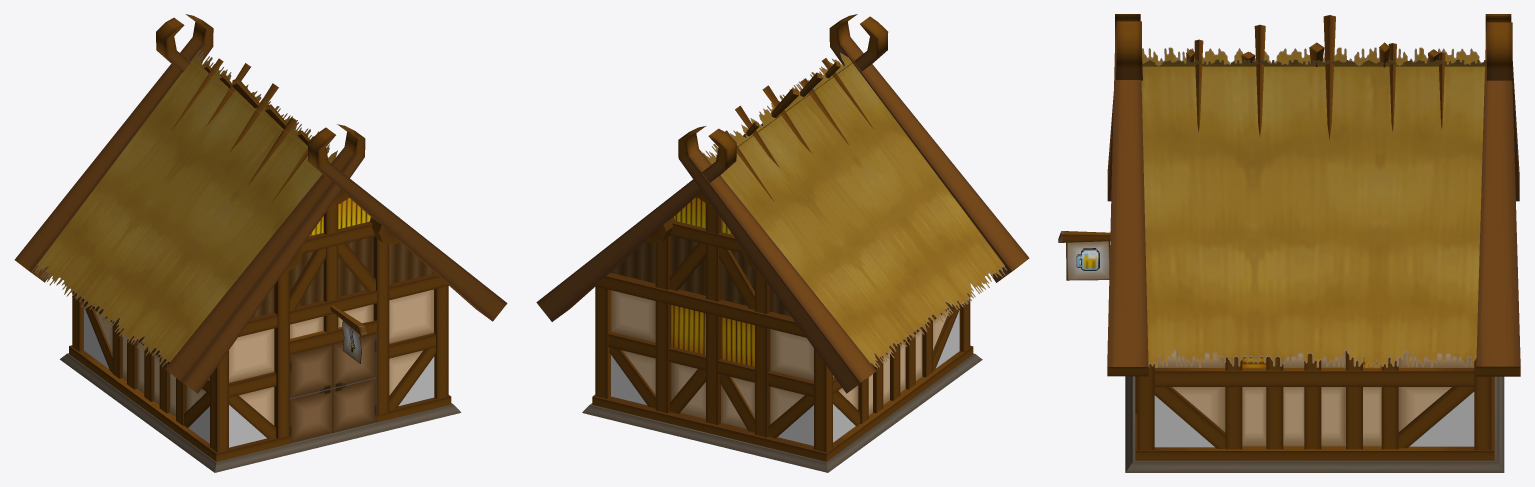
File: House.fbx
3 views of the same model, side by side, from view 1: azimuth 30°, elevation 25°; view 2: azimuth 150°, elevation 25°; view 3: azimuth 270°, elevation 25° (orthographic). The views are drawn at different scales.
Parts seen in each view (by area): view 1: Viking Smith and Bar; view 2: Viking Smith and Bar; view 3: Viking Smith and Bar.
Boxes of the visible parts, bbox=[...] form: Viking Smith and Bar: bbox=[14, 14, 507, 472]; Viking Smith and Bar: bbox=[536, 14, 1029, 472]; Viking Smith and Bar: bbox=[1058, 14, 1520, 472].
Size of the model in its own units: 102 by 93.51 by 103.
